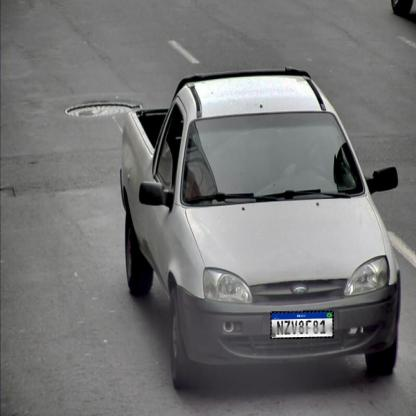PlacaM: (270, 311, 334, 339)
